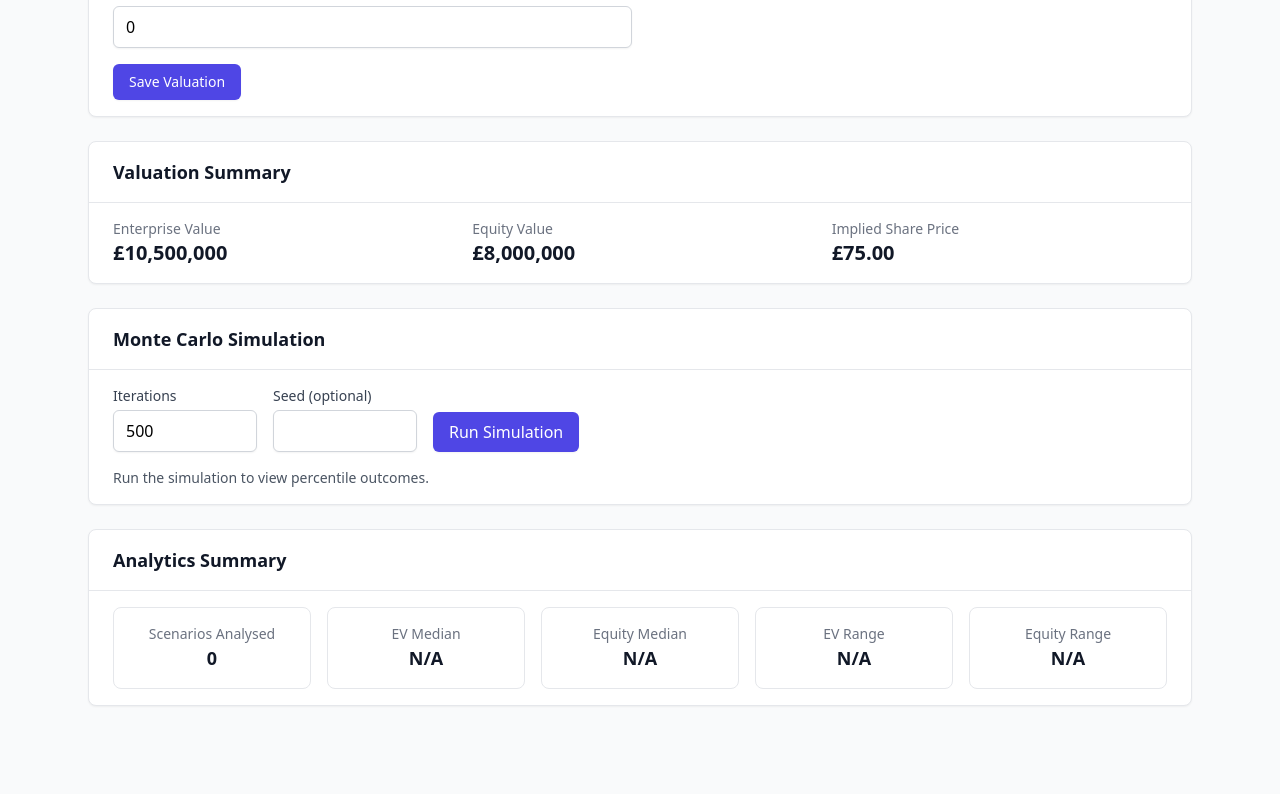
Test: ValuationSuite RED tests › runs Monte Carlo simulation and displays percentile summary
The width and height of the screenshot is (1280, 794).
(page scrolled)
Check: the text "£10,500,000" is shown, box [113,239,227,266]
Replace the text in the number field labelled "Iterations" with "250" at (185, 431), box [113,410,257,452]
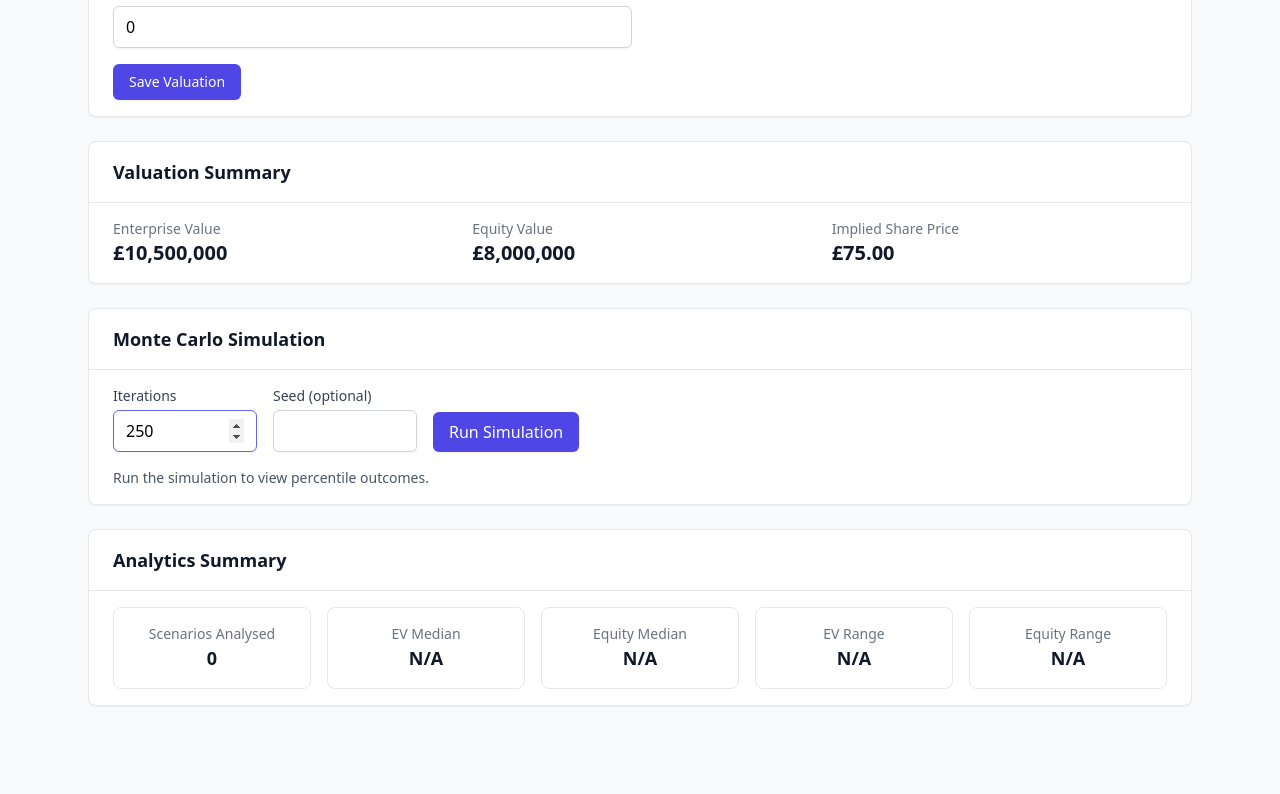
Type "42" into the number field labelled "Seed (optional)" at (345, 431), box [273,410,417,452]
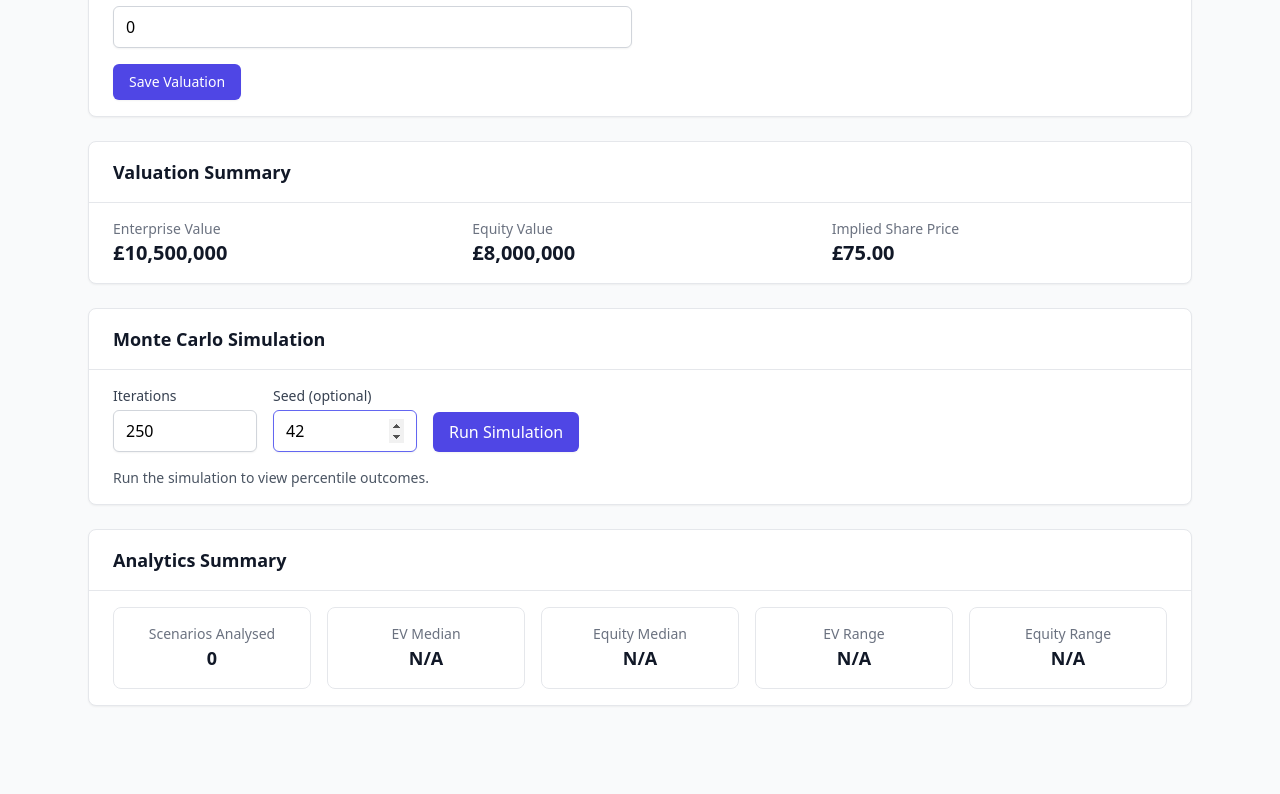
Click the button "Run Simulation" at (506, 432), box [433,412,579,452]
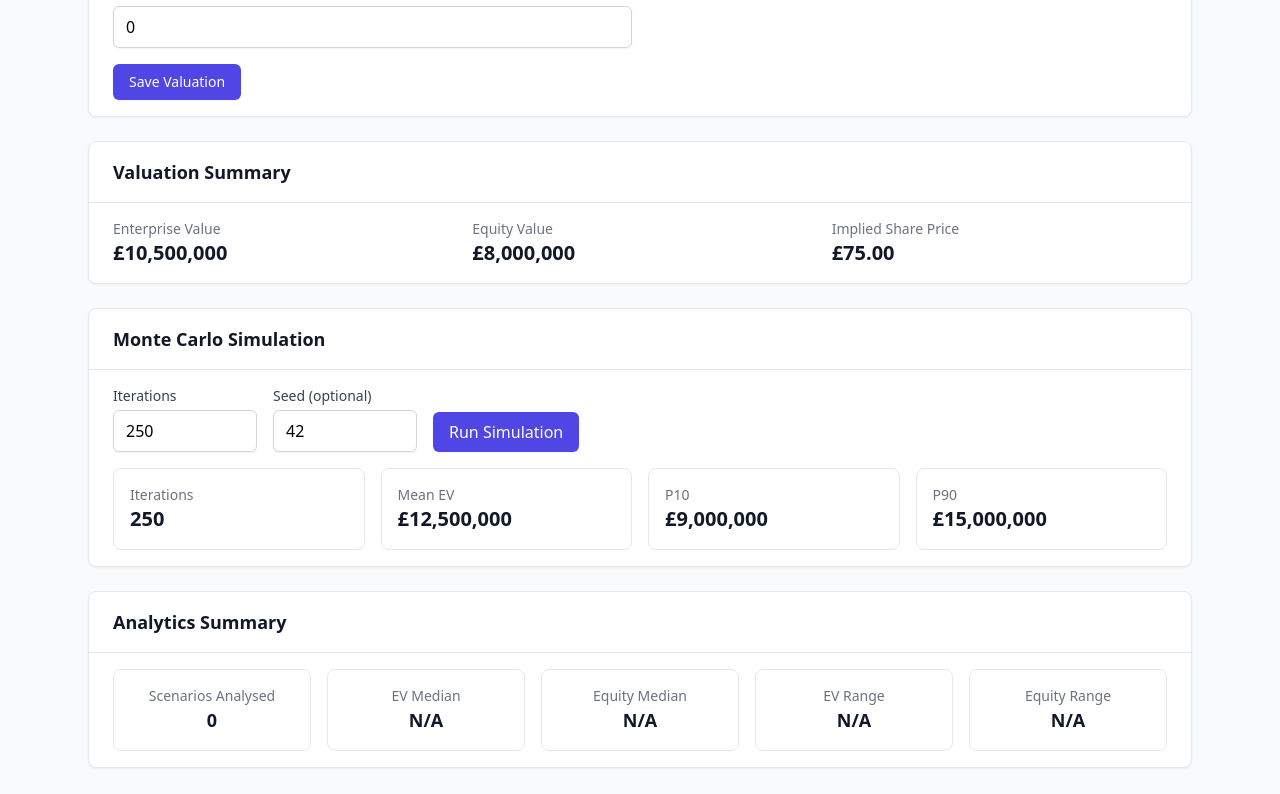
Check: the text "250" is shown, box [130,505,164,532]
Check: the text "£12,500,000" is shown, box [398,505,512,532]
Check: the text "£9,000,000" is shown, box [665,505,768,532]
